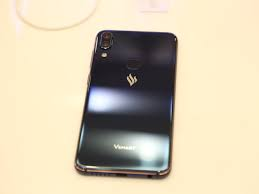vsmart: (74, 27, 177, 181)
